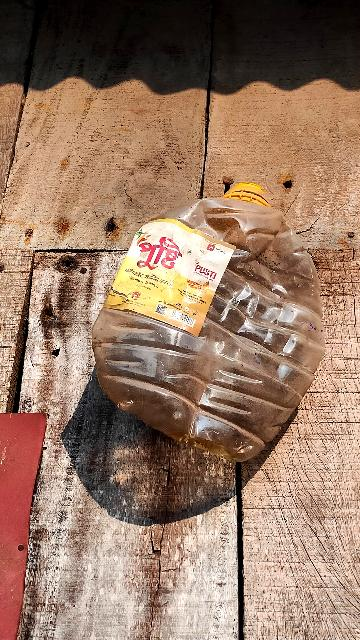bottle: (88, 179, 328, 464)
